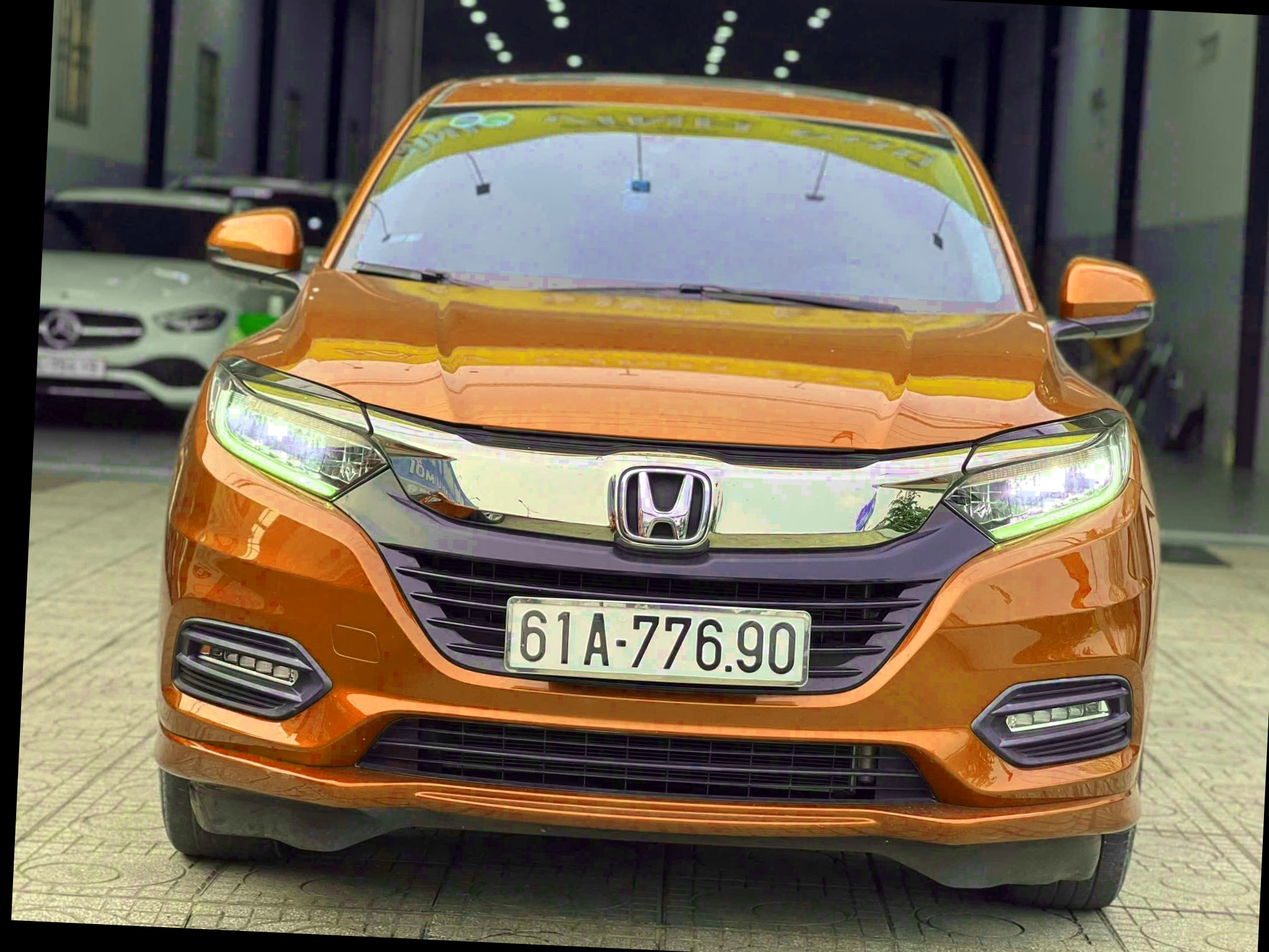Bien-so: (510, 587, 804, 667)
